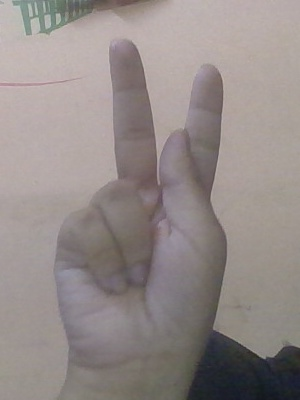K: (1, 31, 248, 279)
